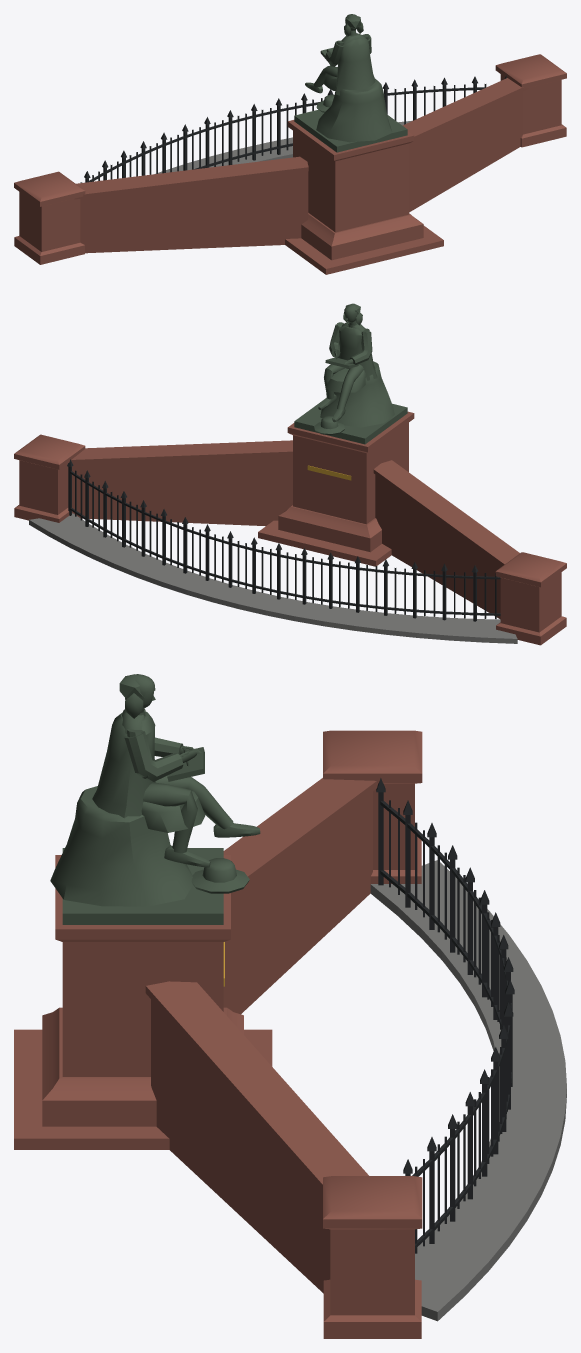
File: mon_ludwig_richter.glb
3 views of the same model, one above another, from view 1: azimuth 30°, elevation 25°; view 2: azimuth 150°, elevation 25°; view 3: azimuth 270°, elevation 25° (orthographic). The views are drawn at different scales.
Parts seen in each view (by area): view 1: mon_ludwig_richter; view 2: mon_ludwig_richter; view 3: mon_ludwig_richter.
Part boxes in pixels (bbox=[...]): mon_ludwig_richter: bbox=[14, 14, 566, 274]; mon_ludwig_richter: bbox=[14, 303, 566, 645]; mon_ludwig_richter: bbox=[14, 674, 566, 1338].
Bounding box in the file's own units: 11.16 × 4.5 × 5.35.
